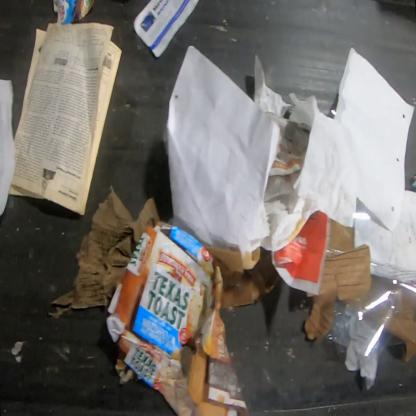cardboard: (105, 216, 252, 415), (46, 184, 161, 320), (204, 245, 282, 310)
soft_plastic: (321, 260, 415, 372), (324, 200, 379, 260)
